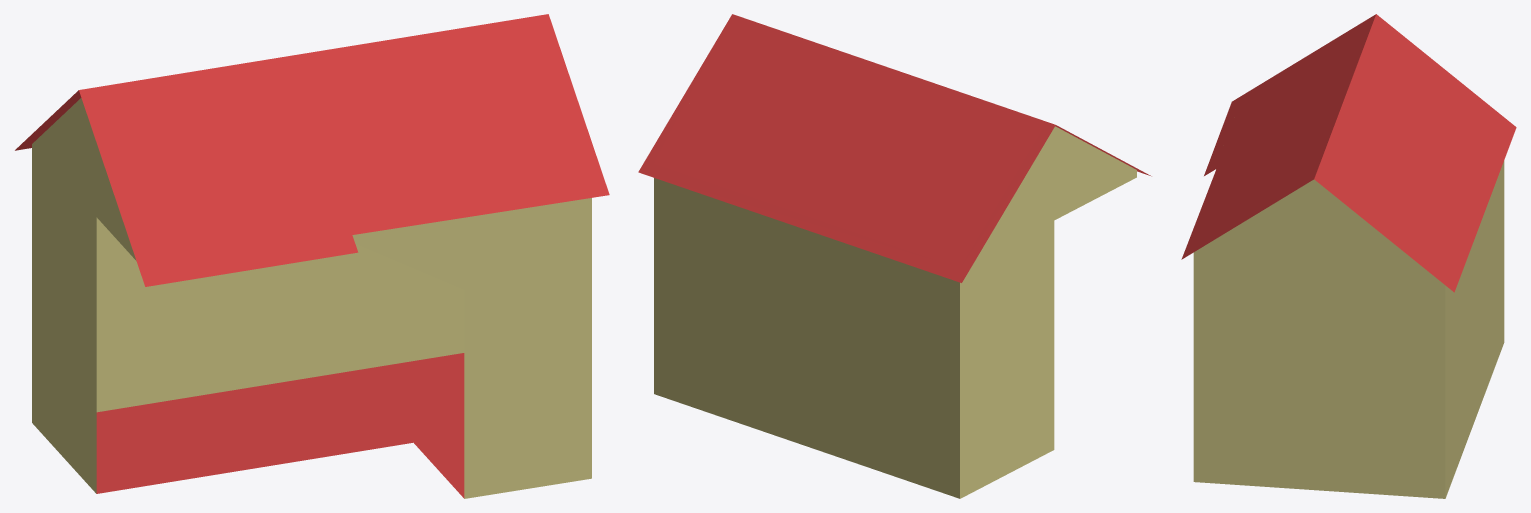
3 views of the same model, side by side, from view 1: azimuth 30°, elevation 25°; view 2: azimuth 150°, elevation 25°; view 3: azimuth 270°, elevation 25° (orthographic). The views are drawn at different scales.
Size of the model in its own units: 20.21 by 15.53 by 16.12.
